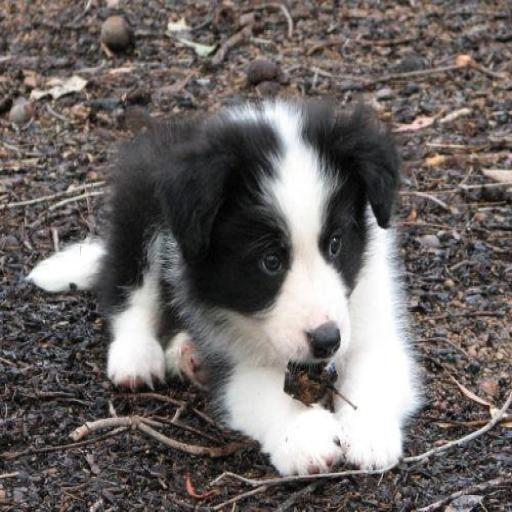dog_face: (177, 99, 409, 392)
